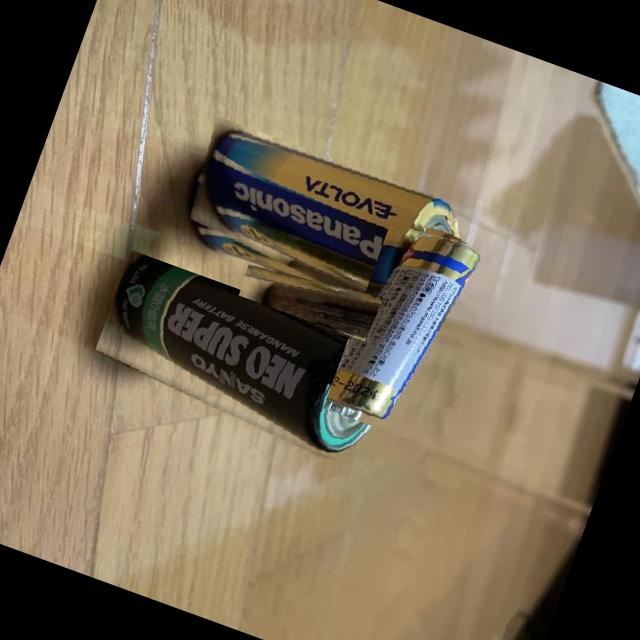Hazard: (84, 250, 414, 482), (168, 116, 473, 336), (322, 214, 497, 446), (237, 250, 391, 345)
